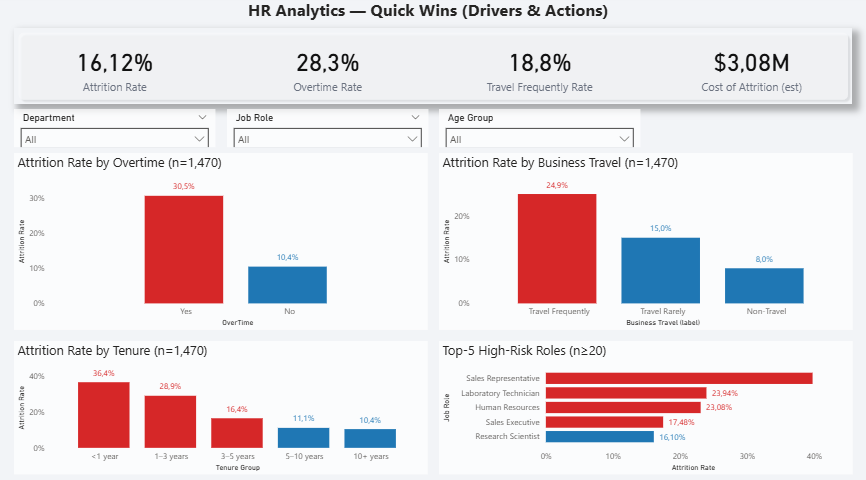

Layout of this report page (visuals, bound fields, positions):
{"tool":"powerbi","page":{"name":"HR Analytics — Quick Wins (Drivers & Actions)","canvas":[1280,720],"ordinal":2},"visuals":[{"type":"shape","box":[24,48,1232,112],"z":0},{"type":"card","fields":{"Values":["HRData.Attrition Rate"]},"box":[24,56,296,100],"z":1000},{"type":"card","fields":{"Values":["HRData.Travel Frequently Rate"]},"box":[648,56,296,100],"z":2000},{"type":"card","fields":{"Values":["HRData.Overtime Rate"]},"box":[336,56,296,100],"z":3000},{"type":"card","fields":{"Values":["HRData.Cost of Attrition (est)"]},"box":[960,56,296,100],"z":4000},{"type":"slicer","fields":{"Values":["HRData.Department"]},"box":[24,168,296,56],"z":5000},{"type":"slicer","fields":{"Values":["HRData.Job Role"]},"box":[336,168,296,56],"z":6000},{"type":"slicer","fields":{"Values":["HRData.Age Group"]},"box":[648,168,296,56],"z":7000},{"type":"textbox","box":[16,0,1232,48],"z":8000},{"type":"clusteredColumnChart","fields":{"Y":["HRData.Attrition Rate"],"Category":["HRData.OverTime"]},"box":[24,232,608,260],"z":9000},{"type":"clusteredColumnChart","fields":{"Y":["HRData.Attrition Rate"],"Category":["HRData.Business Travel (label)"]},"box":[648,232,608,260],"z":10000},{"type":"clusteredColumnChart","fields":{"Y":["HRData.Attrition Rate"],"Category":["HRData.Tenure Group"]},"box":[24,508,608,196],"z":11000},{"type":"clusteredBarChart","fields":{"Category":["HRData.Job Role"],"Y":["HRData.Attrition Rate"]},"box":[648,508,608,196],"z":12000}]}

Visuals, with their boxes in screenshot pixels (x1, y1, x2, y2), scaled from the page's 1280x720 canvas onto the 866x480 screenshot:
shape: (16,32,850,107)
card - HRData.Attrition Rate: (16,37,216,104)
card - HRData.Travel Frequently Rate: (438,37,639,104)
card - HRData.Overtime Rate: (227,37,428,104)
card - HRData.Cost of Attrition (est): (650,37,850,104)
slicer - HRData.Department: (16,112,216,149)
slicer - HRData.Job Role: (227,112,428,149)
slicer - HRData.Age Group: (438,112,639,149)
textbox: (11,0,844,32)
clusteredColumnChart - HRData.Attrition Rate x HRData.OverTime: (16,155,428,328)
clusteredColumnChart - HRData.Attrition Rate x HRData.Business Travel (label): (438,155,850,328)
clusteredColumnChart - HRData.Attrition Rate x HRData.Tenure Group: (16,339,428,469)
clusteredBarChart - HRData.Job Role x HRData.Attrition Rate: (438,339,850,469)
